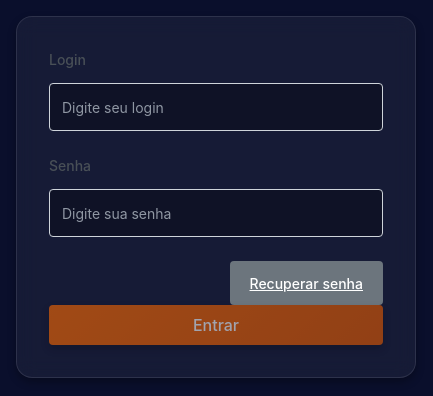
Scenario: Login Component › Interações com inputs › deve habilitar botão entrar quando ambos os campos são preenchidos
Type "meulogin" into the field labelled "Login" at (216, 107), box [49,83,383,131]
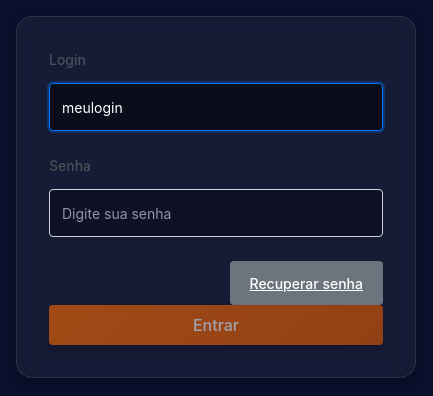
Type "minhasenha" into the password field labelled "Senha" at (216, 213), box [49,189,383,237]
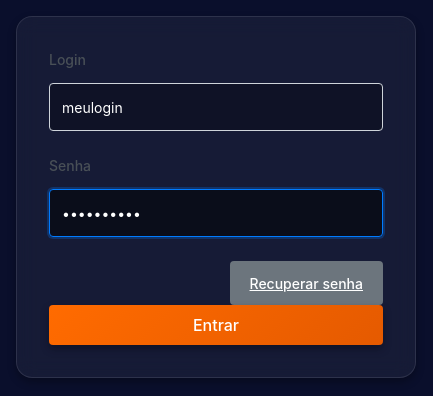
expect the button "Entrar" is enabled: met, box [49,305,383,345]
